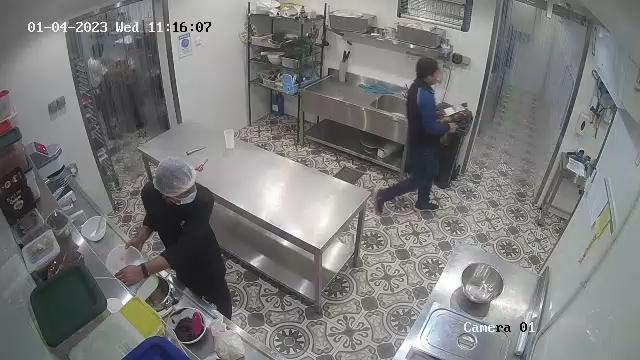no_apron: (151, 184, 224, 296)
